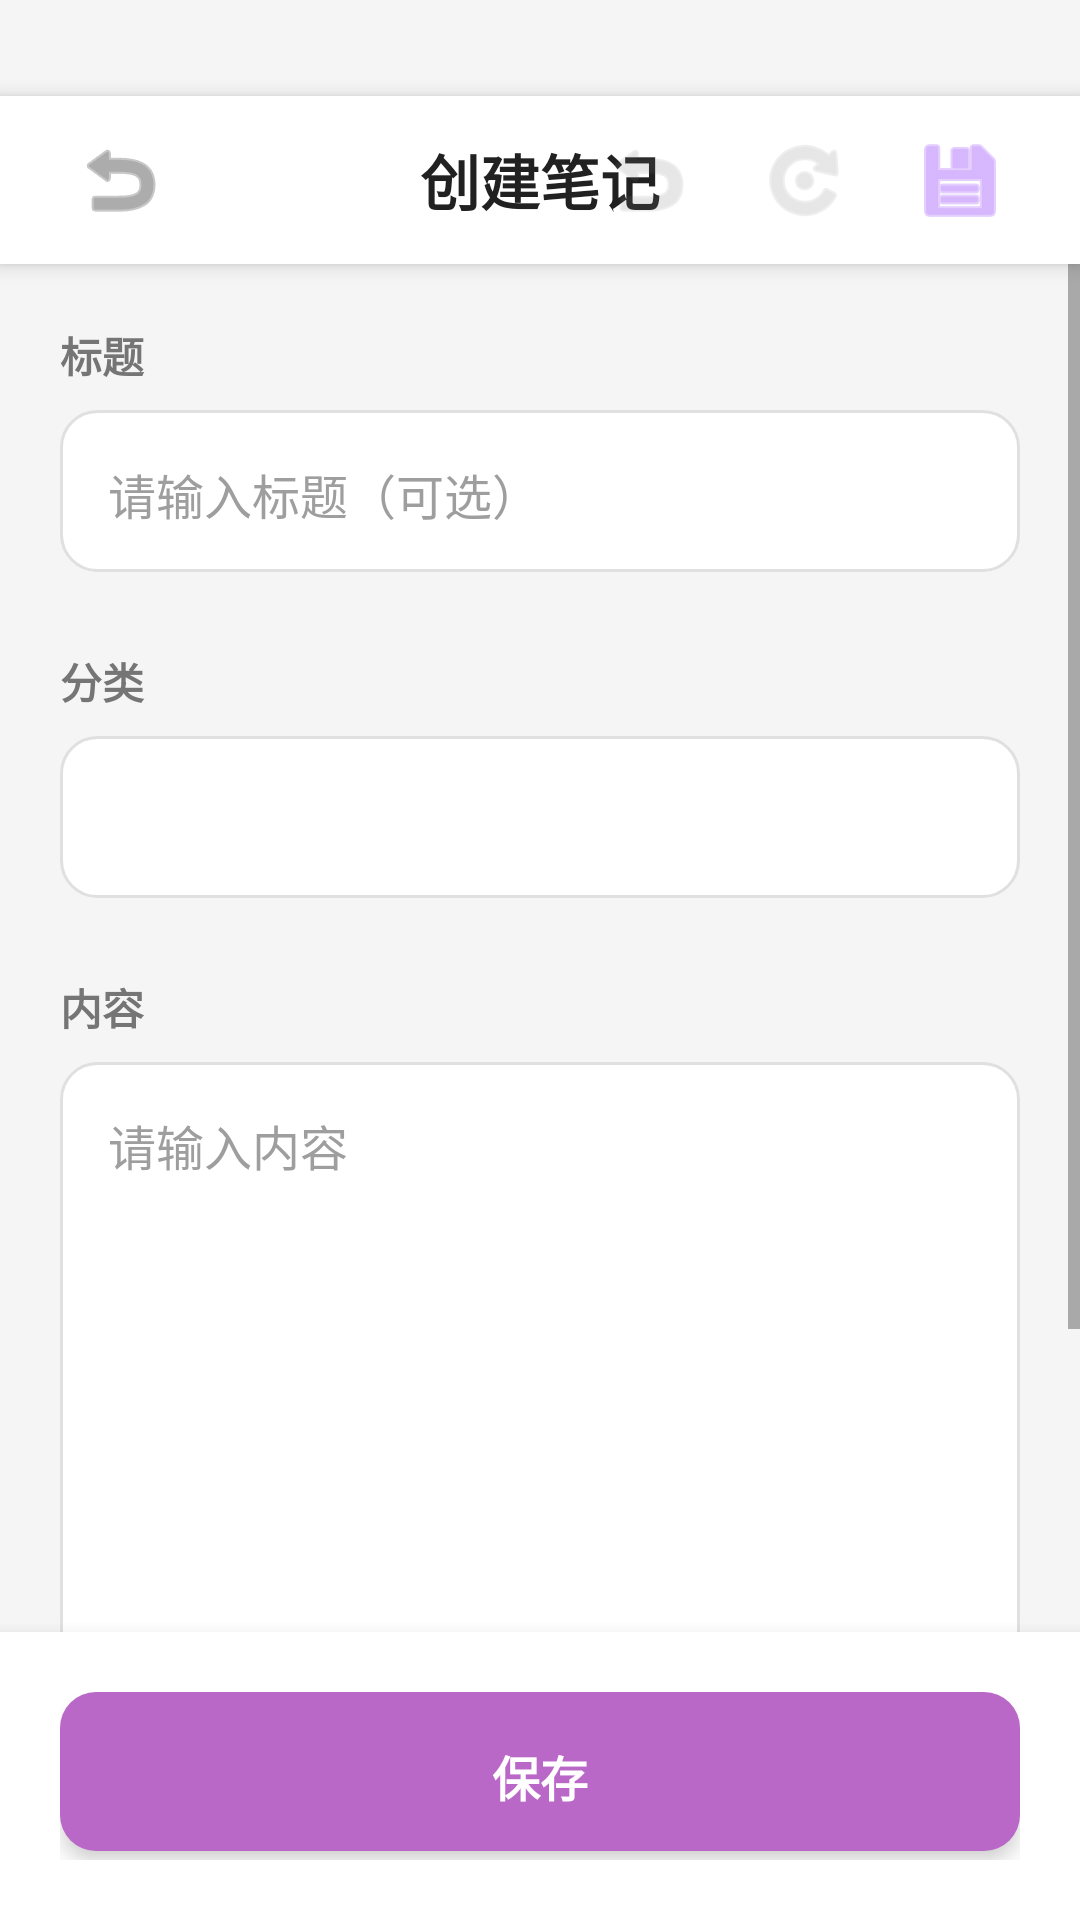

Named icons in this screenshot (1080*1920) and their bounding boxes, (x1, y1, x2, y2):
返回: (87, 150, 156, 212)
重做: (772, 147, 836, 214)
